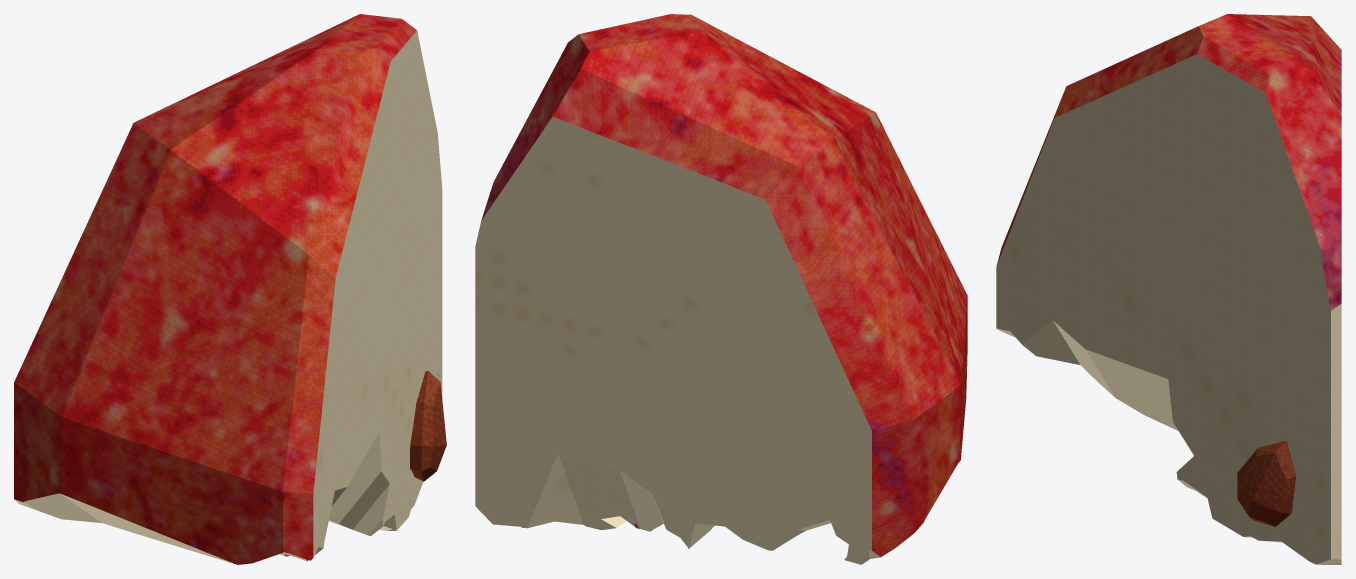
File: apple_stage3.fbx
The picture shows the model from 3 angles, left to right: view 1: azimuth 30°, elevation 25°; view 2: azimuth 150°, elevation 25°; view 3: azimuth 270°, elevation 25°; orthographic projection. The views are drawn at different scales.
Parts seen in each view (by area): view 1: Apple, Seed 1; view 2: Apple; view 3: Apple, Seed 1.
Boxes of the visible parts, x1=… form: Apple: x1=14, y1=14, x2=442, y2=564; Seed 1: x1=410, y1=371, x2=446, y2=481; Apple: x1=475, y1=14, x2=967, y2=564; Apple: x1=996, y1=14, x2=1341, y2=564; Seed 1: x1=1237, y1=441, x2=1295, y2=526.
Size of the model in its own units: 1136 by 809 by 1250.
